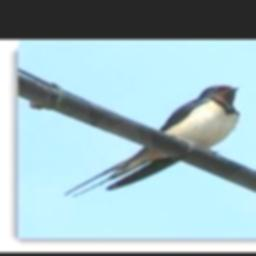Swallow: (64, 85, 240, 197)
